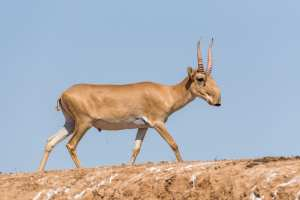saiga: (34, 37, 222, 169)
